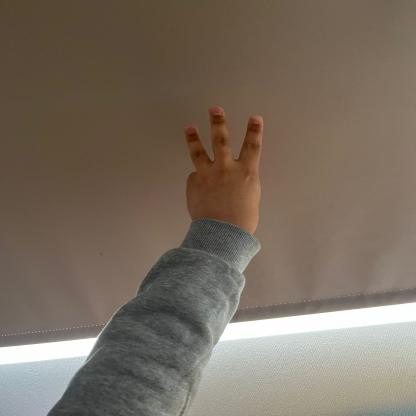W: (179, 104, 269, 242)
